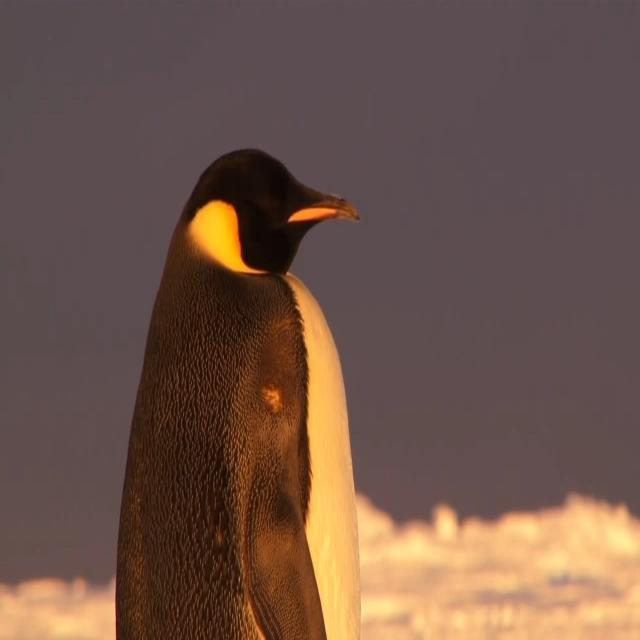penguin: (112, 146, 369, 639)
